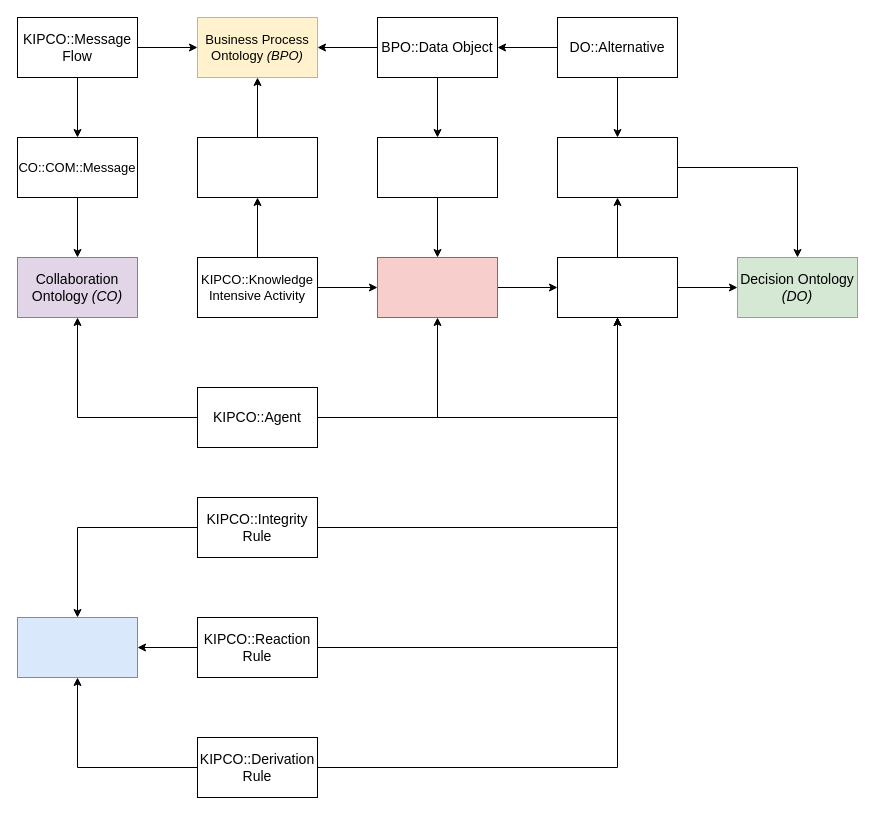
Image size: 875x815. Some labels were removed from this diagram. The centre of each missing label's shape, as x and y in pixels:
"Business Rules Ontology" belongs at [77,647].
"DO::Decision" belongs at [617,167].
"KIPCO::Business Process Rules" belongs at [617,287].
"KIPCO::Knowledge Intensive Process" belongs at [257,167].
"KIPCO::Knowledge Structure" belongs at [437,167].
"KIPO Core Ontology" belongs at [437,287].
